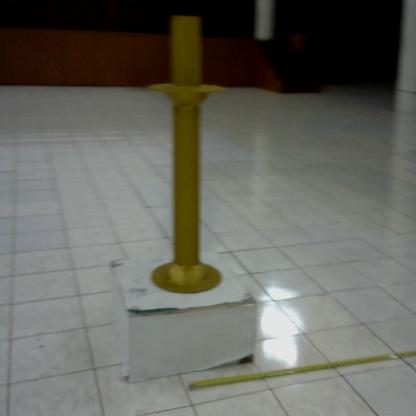pole: (139, 9, 232, 305)
